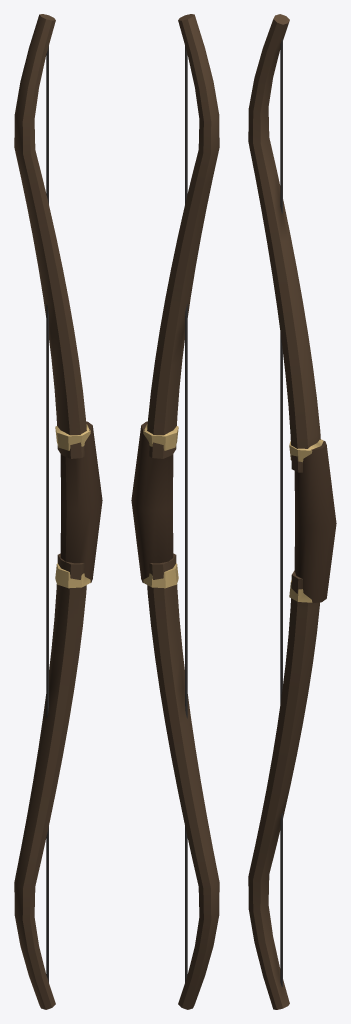
The model's file is bow.glb.
3 renders of one model, left to right at view 1: azimuth 30°, elevation 25°; view 2: azimuth 150°, elevation 25°; view 3: azimuth 330°, elevation 25°, orthographic.
Parts seen in each view (by area): view 1: bow; view 2: bow; view 3: bow.
Part boxes in pixels (left/top/right/bottom): bow: left=14, top=14, right=102, bottom=1009; bow: left=131, top=14, right=219, bottom=1009; bow: left=248, top=14, right=336, bottom=1009.
Size of the model in its own units: 0.1144 by 1.31 by 0.044.
